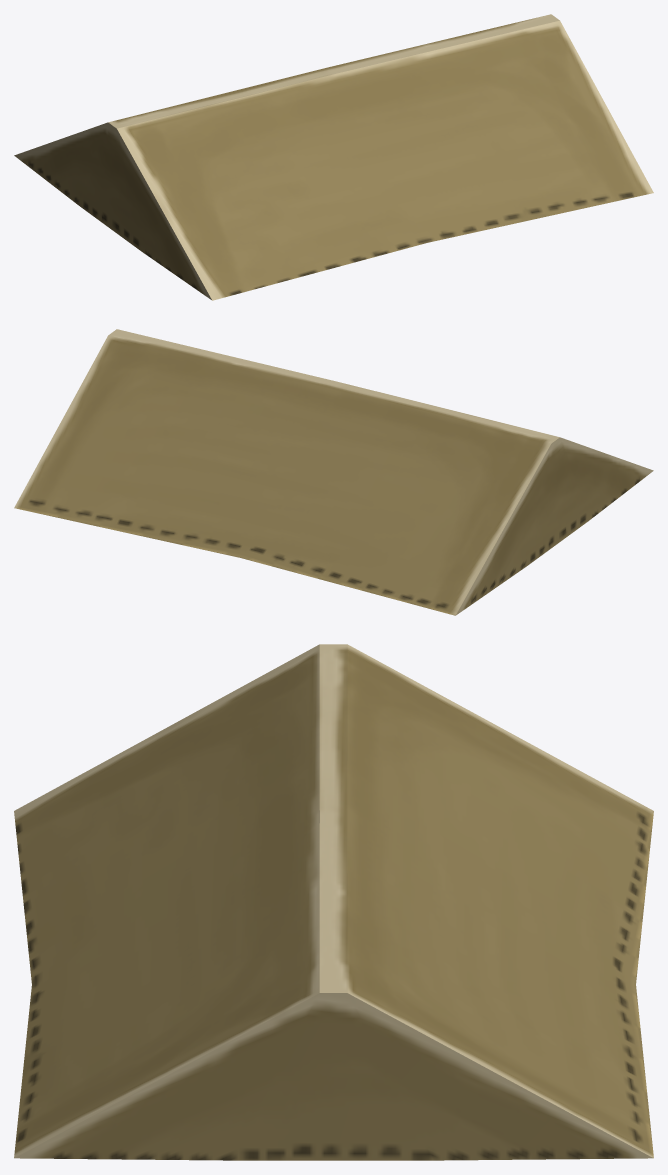
Rendered from TentTop2.fbx.
The picture shows the model from 3 angles, top to bottom: view 1: azimuth 30°, elevation 25°; view 2: azimuth 150°, elevation 25°; view 3: azimuth 270°, elevation 25°; orthographic projection. The views are drawn at different scales.
Parts seen in each view (by area): view 1: pPlane4; view 2: pPlane4; view 3: pPlane4.
Boxes of the visible parts, left/top/right/bottom form: pPlane4: left=14, top=14, right=653, bottom=300; pPlane4: left=14, top=329, right=653, bottom=615; pPlane4: left=14, top=644, right=653, bottom=1160.
Size of the model in its own units: 5.56 by 1.24 by 4.28.
